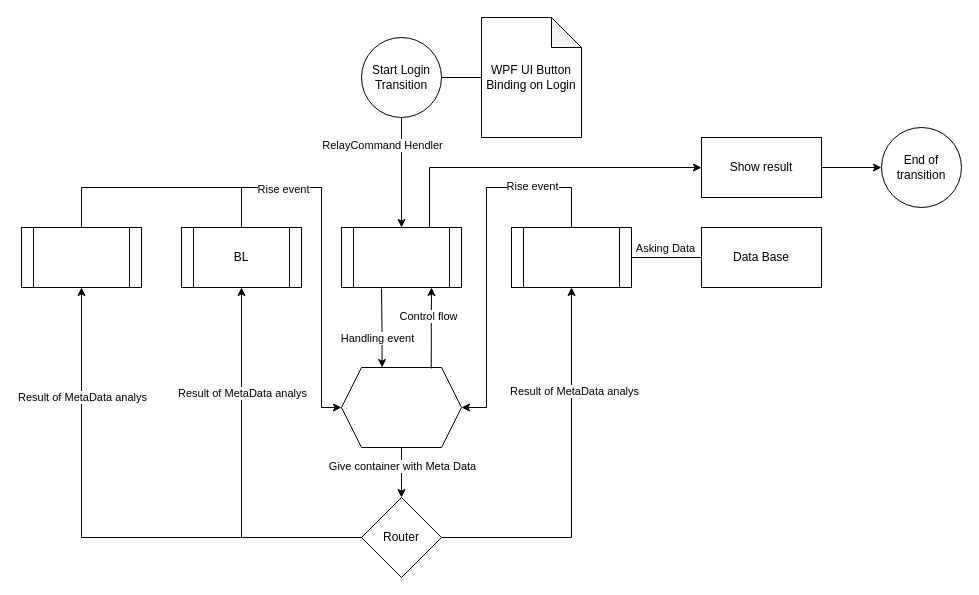
The diagram is 979 pixels wide and 595 high, and some of its shapes have lost their labels. The shapes that lost their labels are listed below. From the top down, each one's box as (x1, y1, x2, y2) in pixels, then its label:
(20, 226, 142, 288): DPL
(340, 226, 462, 288): VM
(510, 226, 632, 288): DAL
(340, 366, 462, 448): Managment System
